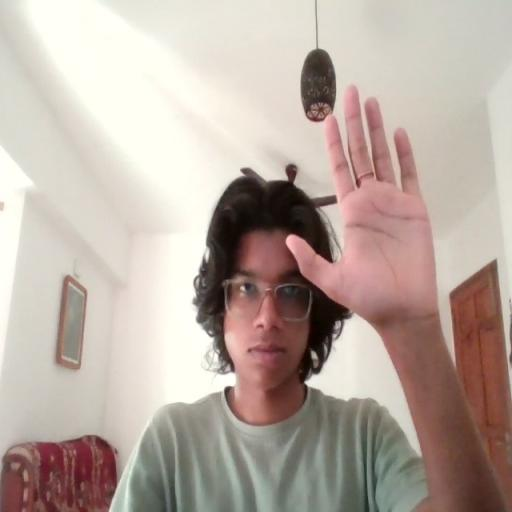Paper: (284, 81, 446, 320)
